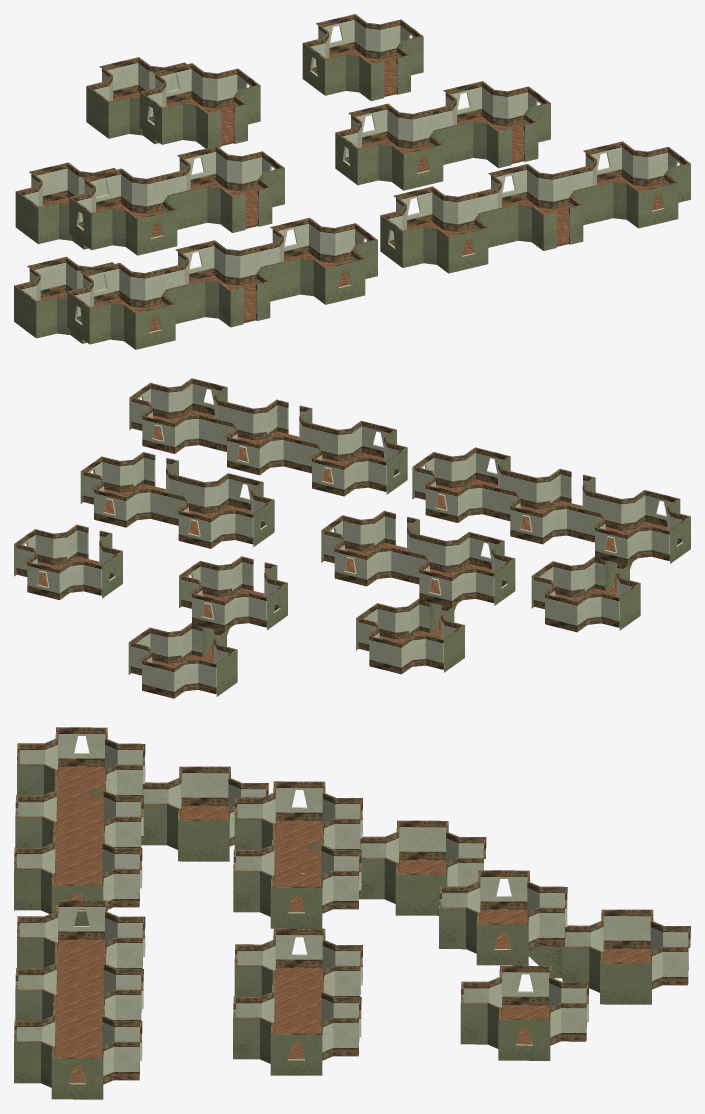
File: m1_interior_casas.fbx
The picture shows the model from 3 angles, top to bottom: view 1: azimuth 30°, elevation 25°; view 2: azimuth 150°, elevation 25°; view 3: azimuth 270°, elevation 25°; orthographic projection. The views are drawn at different scales.
Visible parts, largest first — view 1: sotano_03, sotano_01, sotano_02, pared_lv3_04, pared_lv3_01, pared_lv3_08, pared_lv3_010, pared_lv3_02, pared_lv3_05, pared_lv3_011, pared_lv3_012, pared_lv3_013 (+57 smaller); view 2: sotano_02, sotano_01, sotano_03, pared_lv3_013, pared_lv3_01, pared_lv3_011, pared_lv3_02, pared_lv3_06, pared_lv3_012, pared_lv3_05, pared_lv3_04, pared_lv3_010 (+36 smaller); view 3: sotano_01, sotano_03, sotano_02, pared_lv3_013, pared_lv3_08, suelo_08, suelo_05, pared_lv3_010, pared_lv3_01, suelo_03, suelo_bajada_03, suelo_06 (+45 smaller).
Part boxes in pixels (box(x1,y1,x2,y2)): sotano_03: box(15, 162, 116, 249); sotano_01: box(86, 57, 186, 144); sotano_02: box(14, 256, 114, 343); pared_lv3_04: box(259, 217, 355, 267); pared_lv3_01: box(572, 141, 668, 190); pared_lv3_08: box(166, 146, 262, 195); pared_lv3_010: box(432, 81, 527, 130); pared_lv3_02: box(477, 164, 572, 213); pared_lv3_05: box(164, 240, 259, 289); pared_lv3_011: box(303, 14, 400, 73); pared_lv3_012: box(70, 168, 166, 228); pared_lv3_013: box(140, 63, 237, 123); sotano_02: box(531, 556, 640, 632); sotano_01: box(128, 623, 237, 698); sotano_03: box(356, 598, 464, 674); pared_lv3_013: box(179, 575, 266, 631); pared_lv3_01: box(129, 397, 216, 453); pared_lv3_011: box(15, 543, 101, 599); pared_lv3_02: box(216, 419, 301, 475); pared_lv3_06: box(584, 509, 669, 565); pared_lv3_012: box(408, 551, 493, 607); pared_lv3_05: box(499, 488, 584, 544); pared_lv3_04: box(413, 466, 499, 522); pared_lv3_010: box(81, 471, 167, 527); sotano_01: box(562, 909, 690, 1004); sotano_03: box(359, 820, 486, 915); sotano_02: box(141, 766, 268, 861); pared_lv3_013: box(526, 870, 567, 949); pared_lv3_08: box(320, 834, 361, 913); suelo_08: box(55, 819, 141, 871); suelo_05: box(55, 991, 141, 1043); pared_lv3_010: box(320, 981, 361, 1060); pared_lv3_01: box(101, 1005, 142, 1084); suelo_03: box(274, 968, 322, 1020); suelo_bajada_03: box(274, 821, 360, 873); suelo_06: box(57, 939, 104, 991).
Bounding box in the file's own units: 28391 × 3176 × 24510.
